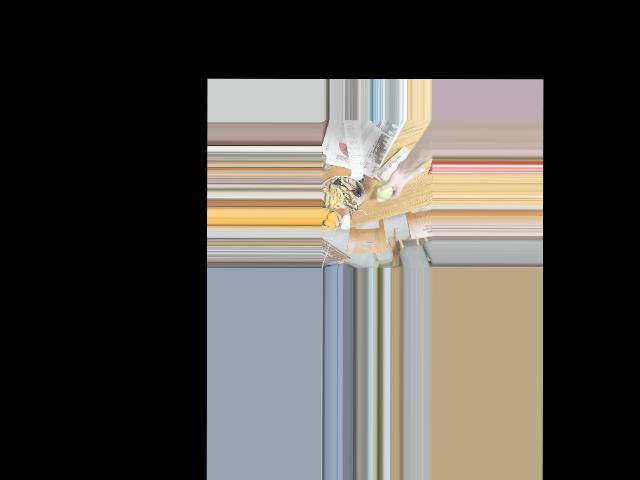apple: (374, 179, 394, 200)
